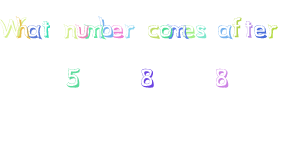5: (62, 62, 85, 91)
8: (208, 64, 238, 93), (135, 64, 160, 91)
W: (1, 16, 18, 43)
a: (215, 20, 233, 45)
b: (99, 16, 112, 43)
c: (145, 20, 161, 45)
e: (112, 17, 125, 45), (254, 21, 268, 43), (185, 22, 196, 43)
f: (232, 14, 245, 39)
h: (17, 16, 28, 45)
m: (170, 21, 187, 45), (87, 21, 102, 44)
n: (62, 19, 77, 45)
o: (159, 20, 172, 45)
r: (267, 23, 281, 44), (125, 20, 136, 41)
s: (197, 23, 209, 40)
t: (41, 18, 54, 41), (243, 18, 254, 44)
u: (76, 21, 88, 42)
w: (28, 18, 43, 47)
